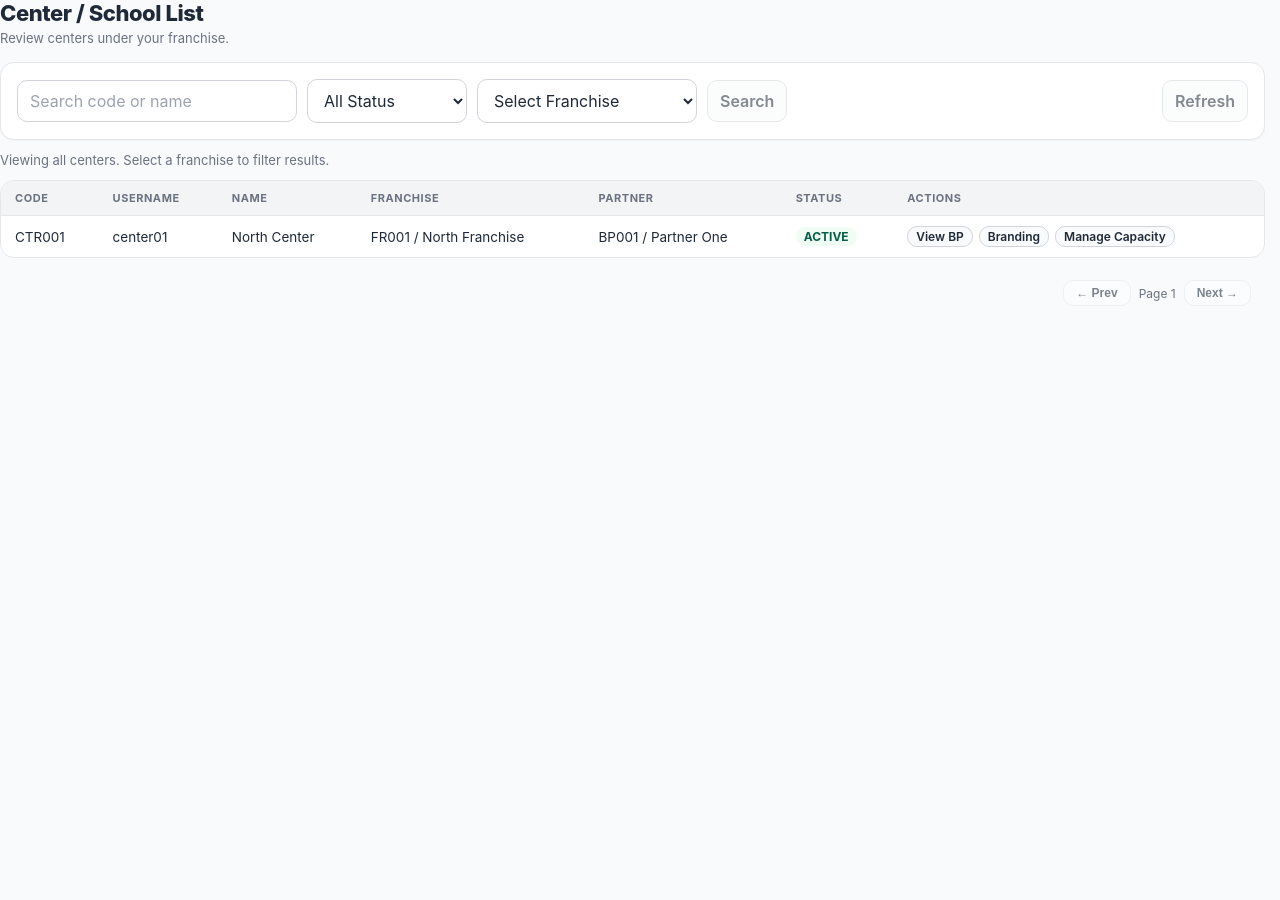
Test case: SuperadminCentersPage › shows validation errors when values fall below current usage
Check: the text "North Center" is shown, box x1=218 y1=216 x2=357 y2=257
Step 1. Click the button "Manage Capacity" → (1115, 236), box x1=1055 y1=226 x2=1175 y2=247
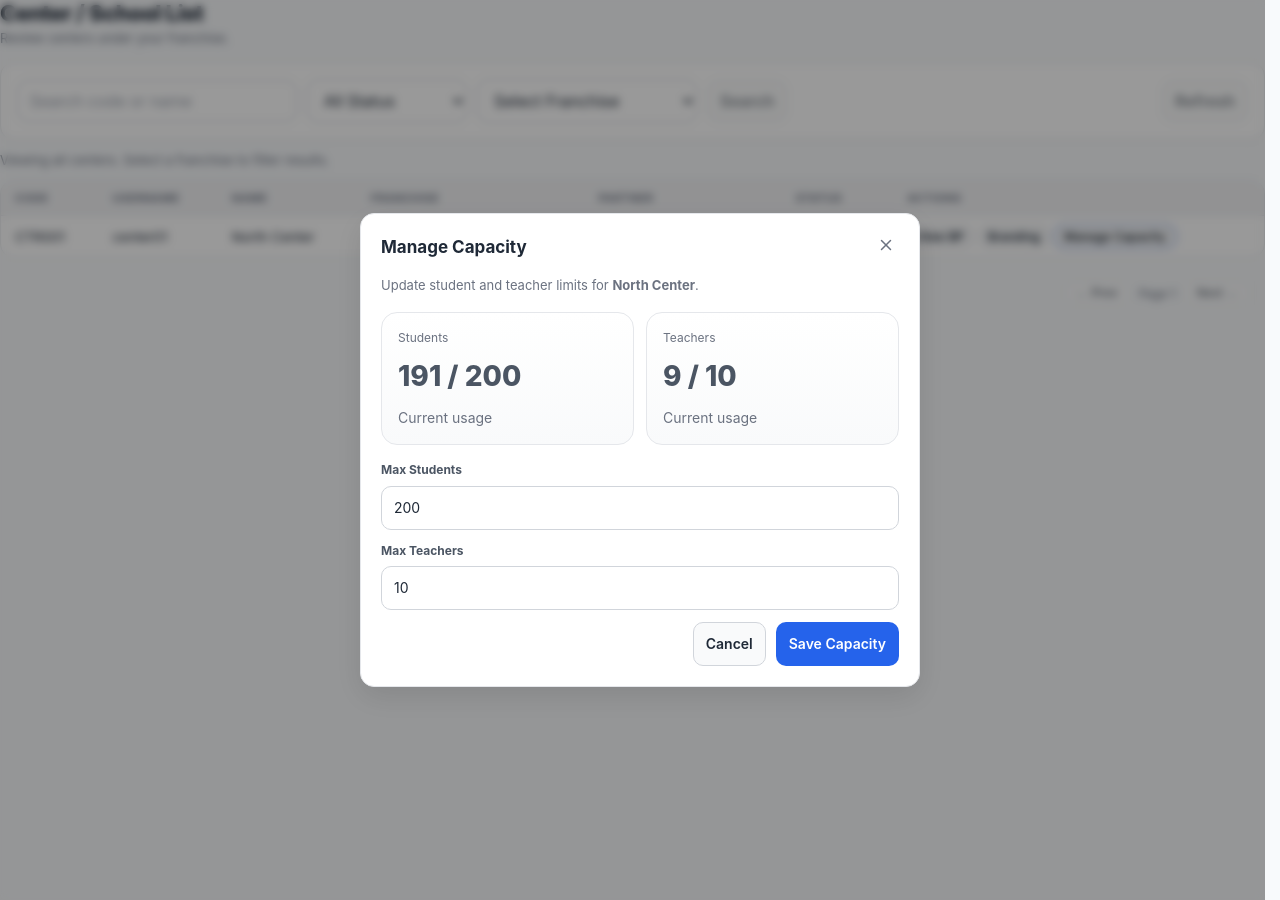
Step 2. Clear the number field labelled "Max Students" → (640, 508), box x1=381 y1=486 x2=899 y2=530
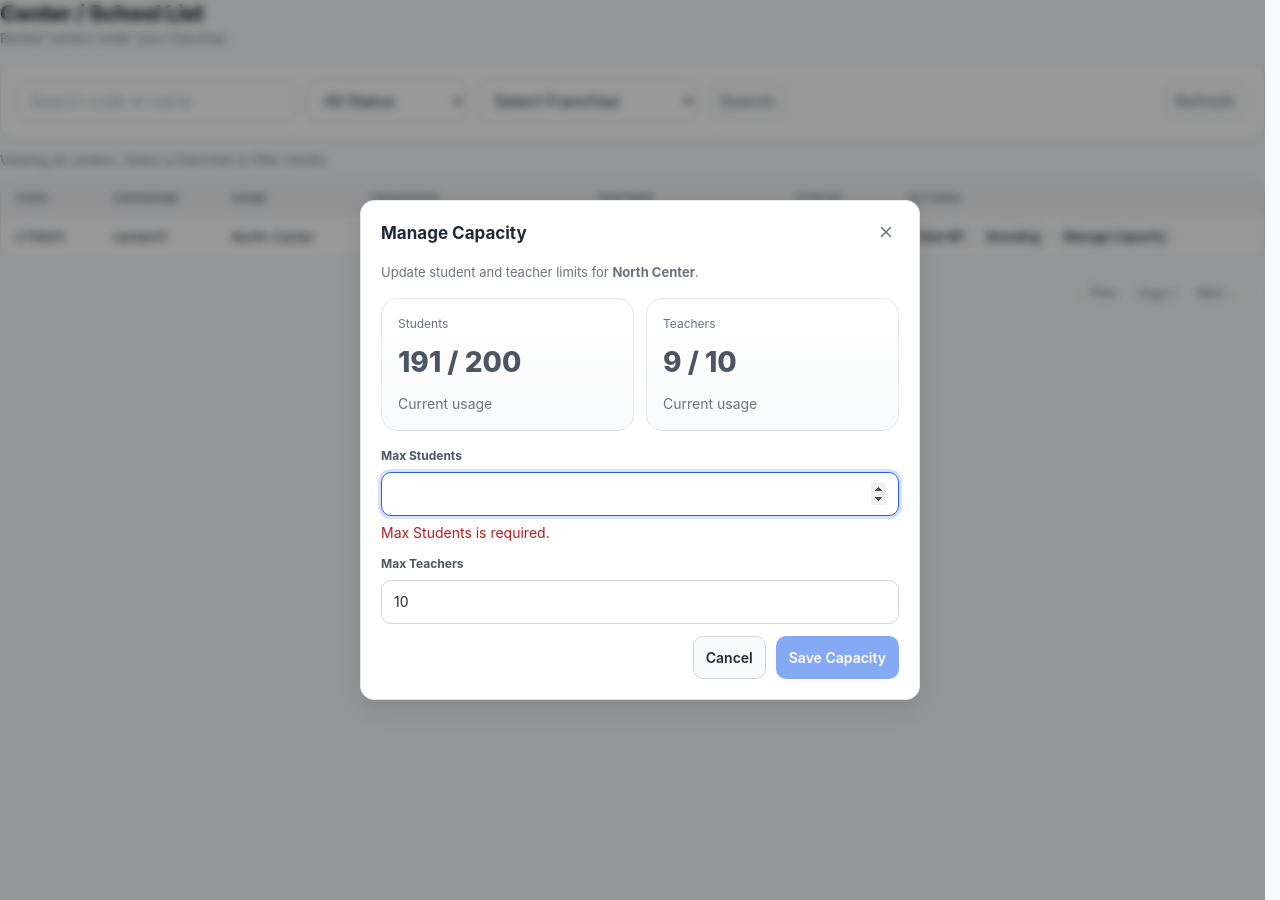
Step 3. Type "190" into the number field labelled "Max Students" → (640, 494), box x1=381 y1=472 x2=899 y2=516
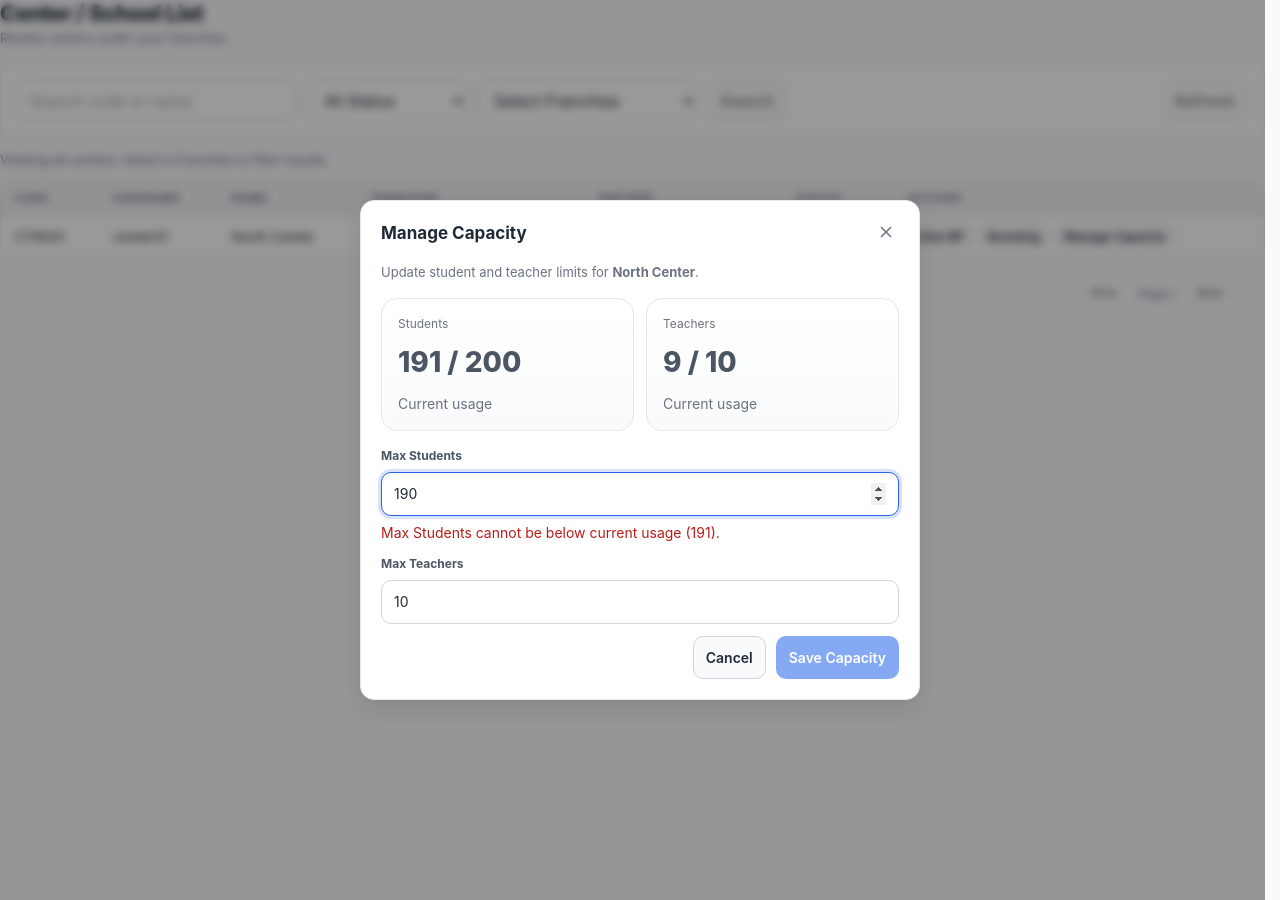
Check: the text "Max Students cannot be below current usage (191)." is shown, box x1=381 y1=524 x2=720 y2=541
